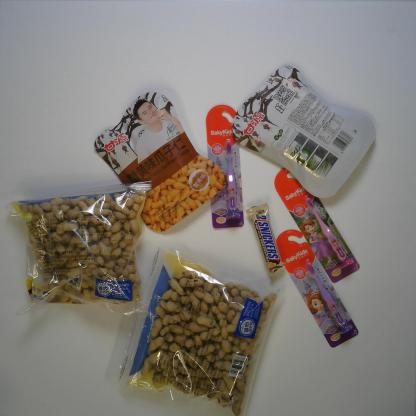Chocolate: (245, 202, 286, 275)
Dried Food: (102, 236, 286, 415), (5, 179, 153, 316)
Dried Fruit: (232, 62, 376, 200), (93, 90, 226, 234)
Personal Hygiene: (274, 166, 361, 284), (276, 229, 359, 348), (205, 105, 244, 230)
